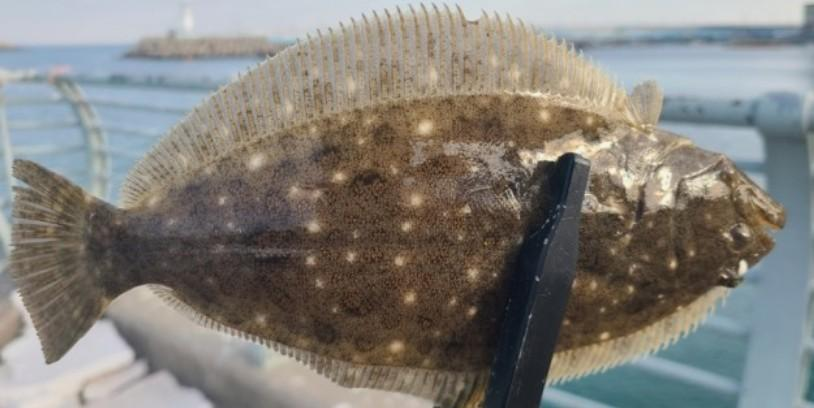fish: (9, 5, 788, 407)
